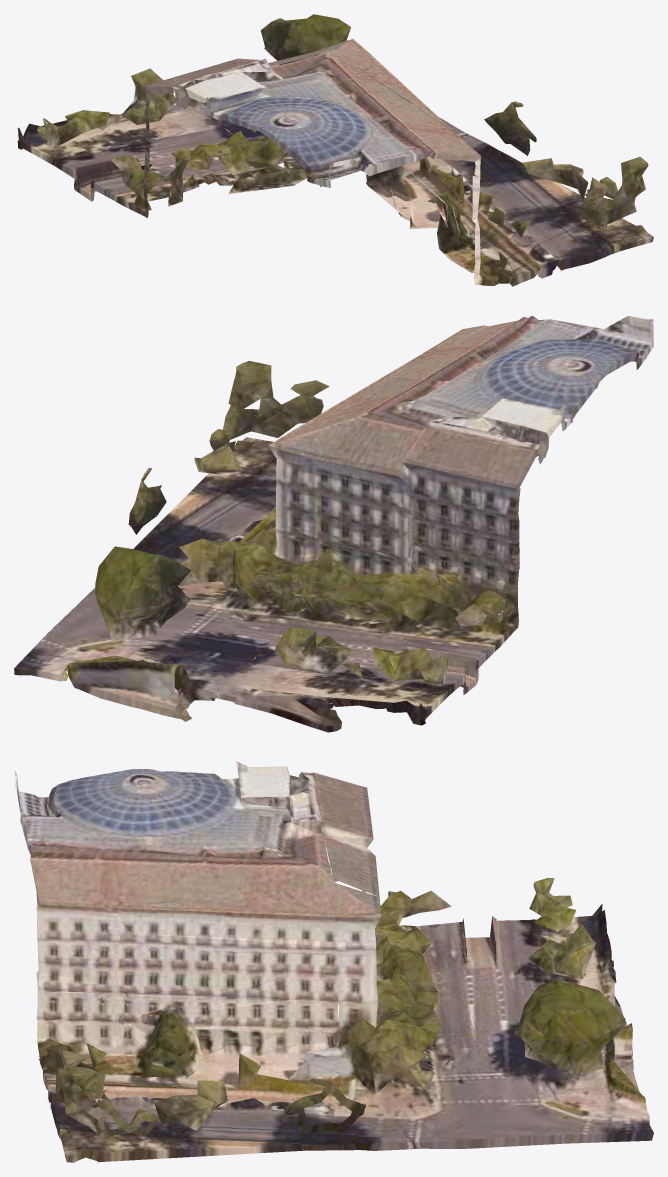
The picture shows the model from 3 angles, top to bottom: view 1: azimuth 30°, elevation 25°; view 2: azimuth 150°, elevation 25°; view 3: azimuth 270°, elevation 25°; orthographic projection. The views are drawn at different scales.
Visible parts, largest first — view 1: Mesh_0; view 2: Mesh_0; view 3: Mesh_0.
Part boxes in pixels (x1,y1,x2,y2): Mesh_0: [17, 14, 653, 286]; Mesh_0: [14, 315, 653, 732]; Mesh_0: [14, 761, 653, 1162].
Size of the model in its own units: 67.21 by 31.87 by 82.62.
Materials: 2 (2 with a texture image).
